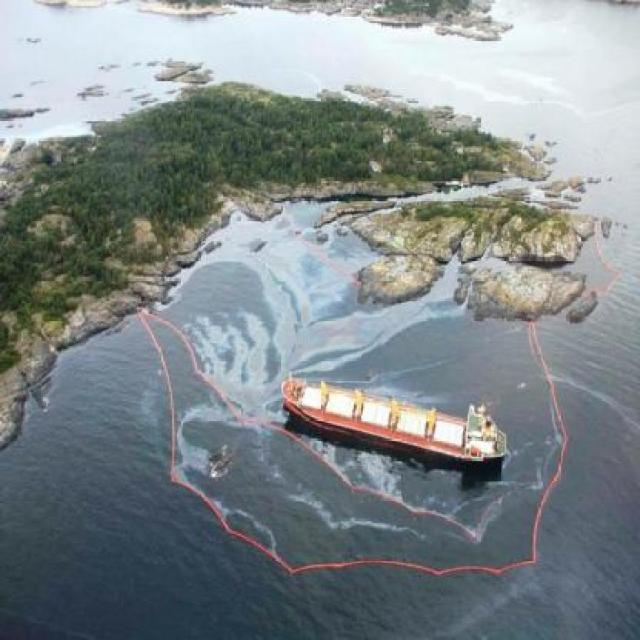sheen: (160, 203, 467, 421)
